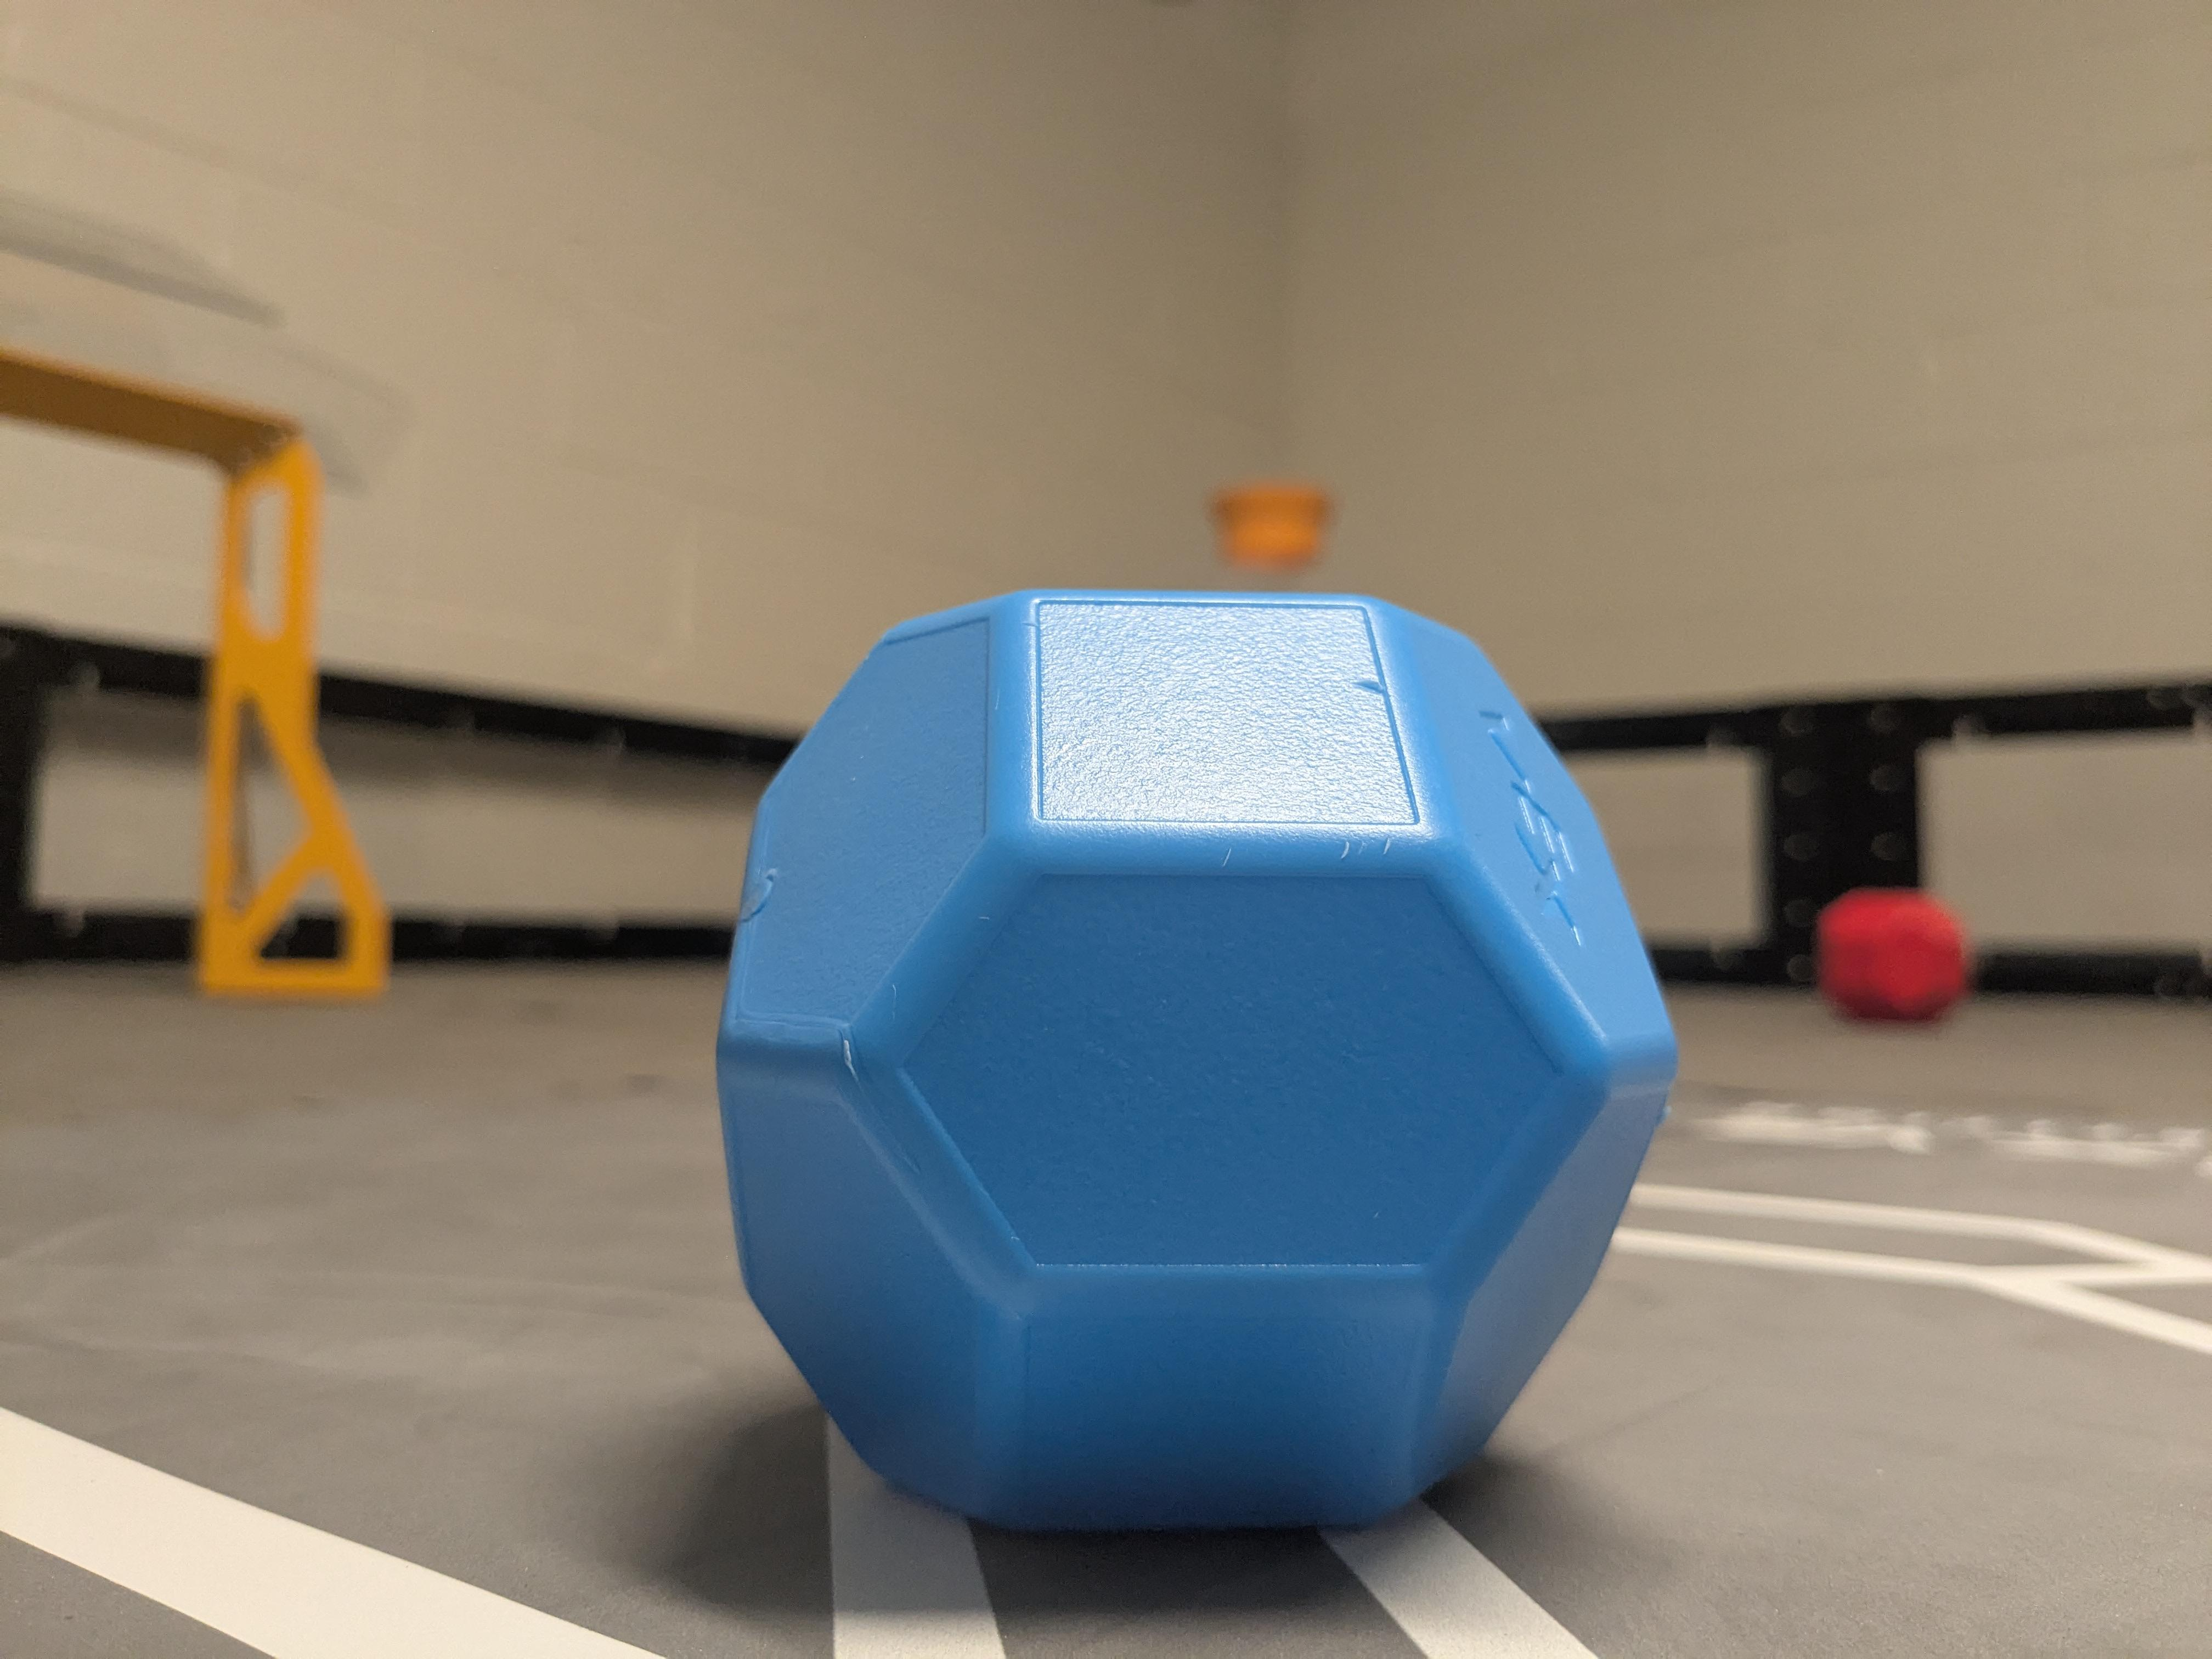Vex-Pieces-BLUE: (718, 591, 1677, 1528)
